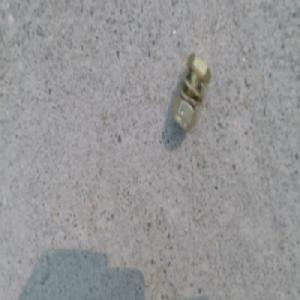BoltNutSet: (174, 44, 214, 123)
